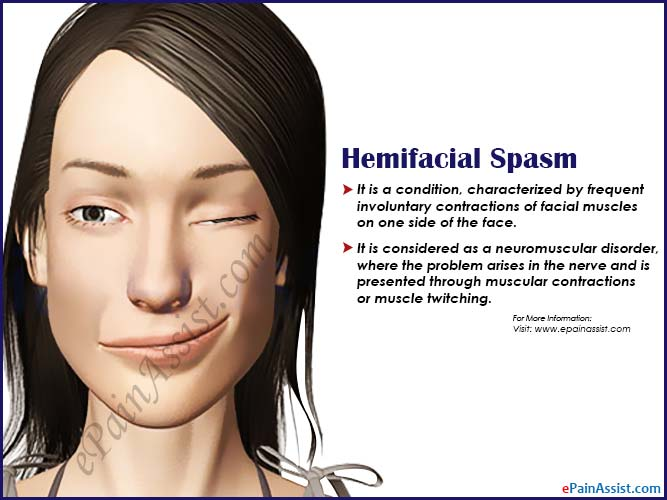stroke: (51, 104, 274, 437)
